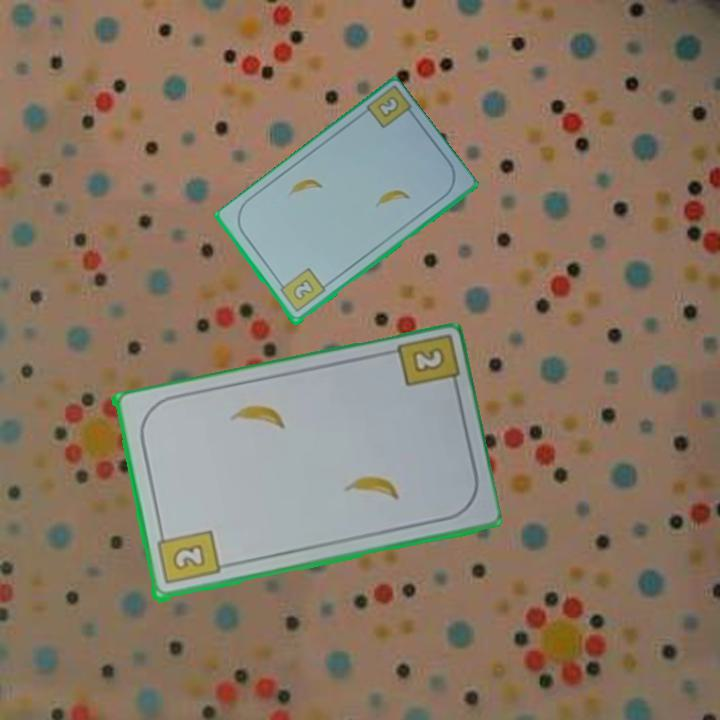2b: (153, 527, 222, 588), (275, 265, 328, 316), (407, 344, 448, 376), (374, 93, 402, 121)
